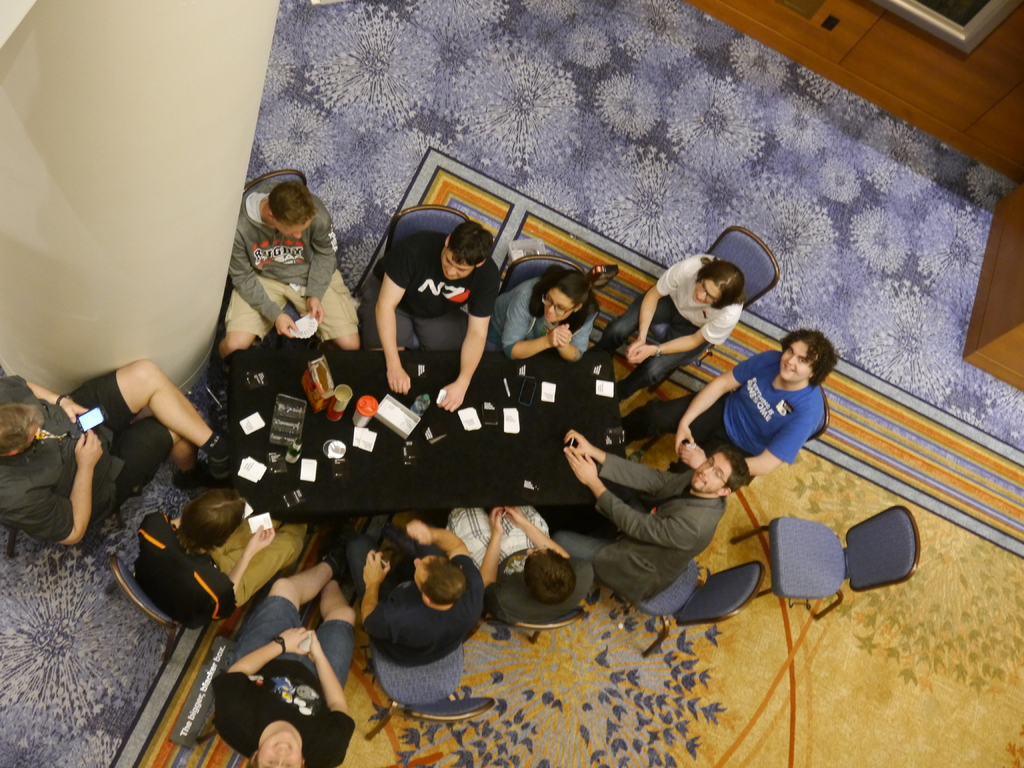Human_hand: (563, 447, 600, 487), (361, 548, 393, 589), (73, 428, 104, 470), (278, 625, 311, 658), (436, 377, 467, 412), (672, 422, 698, 460), (405, 518, 434, 548), (248, 525, 276, 556), (384, 368, 413, 396), (565, 428, 596, 454), (61, 399, 90, 425), (680, 442, 708, 467), (273, 314, 298, 340), (306, 298, 327, 324), (628, 343, 652, 365), (491, 508, 508, 538), (504, 506, 527, 527), (630, 339, 648, 364), (548, 327, 568, 347), (310, 631, 321, 664), (557, 323, 572, 347)
